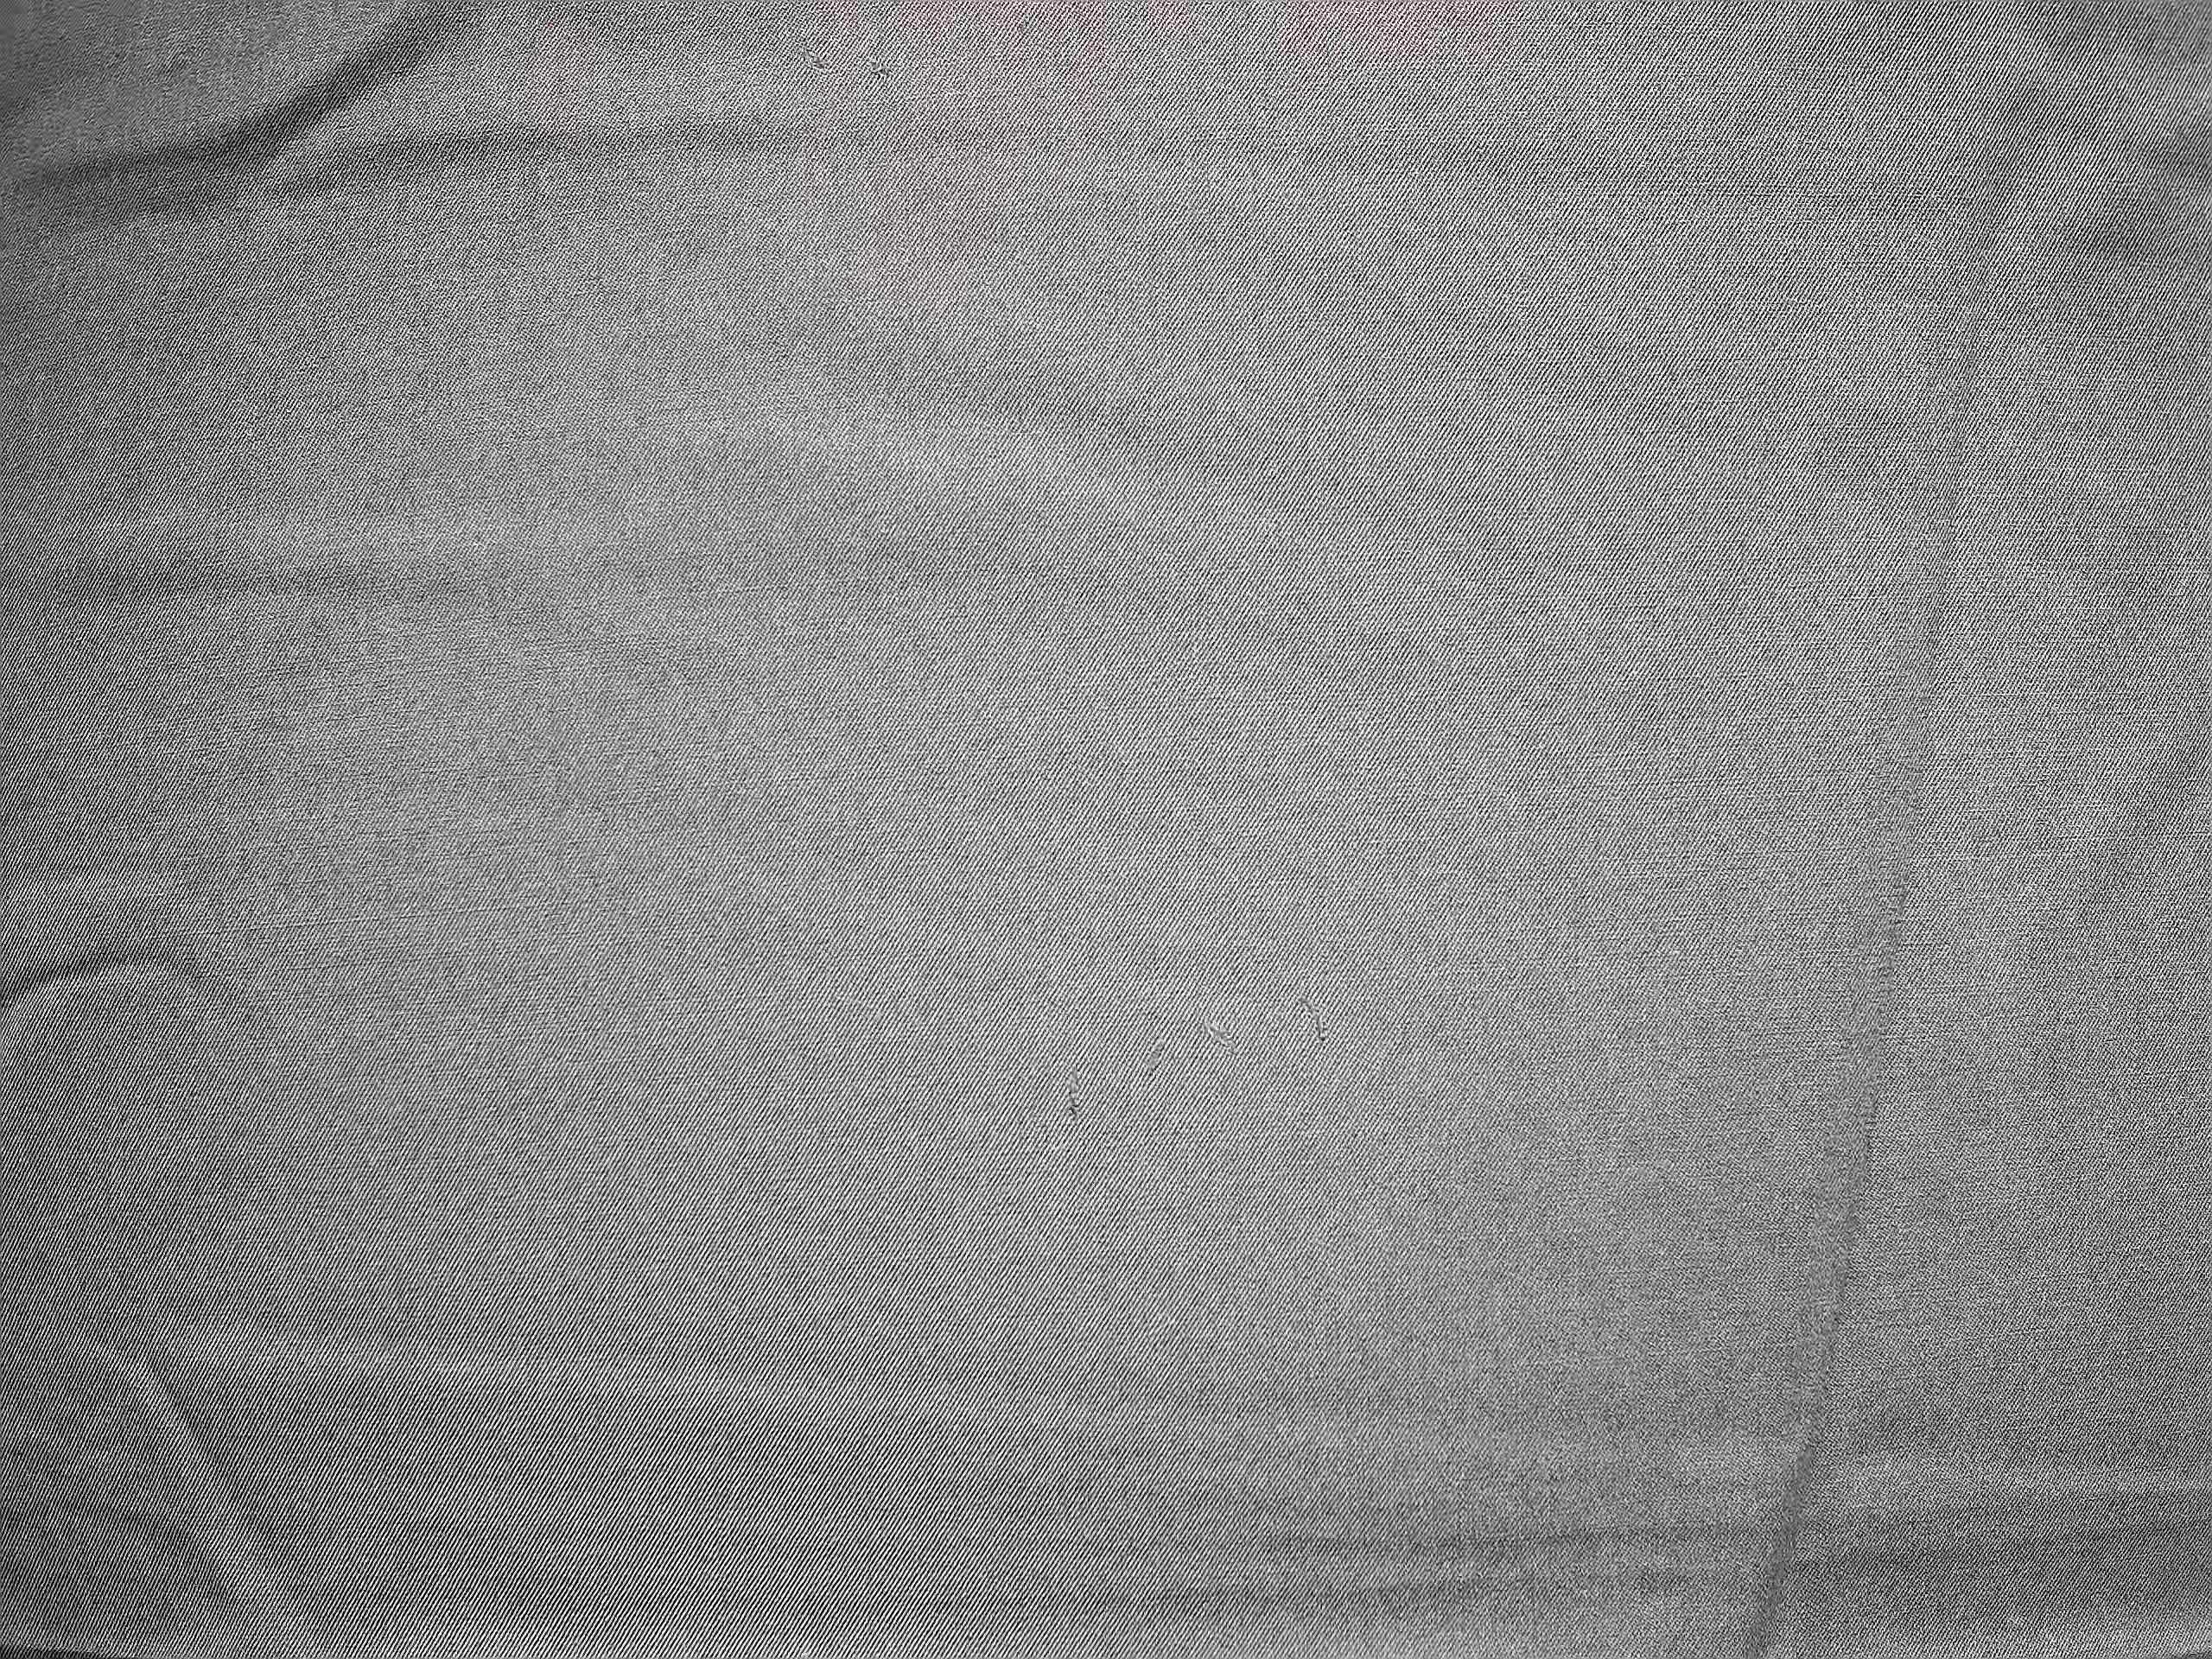others: (1042, 981, 1352, 1140)
